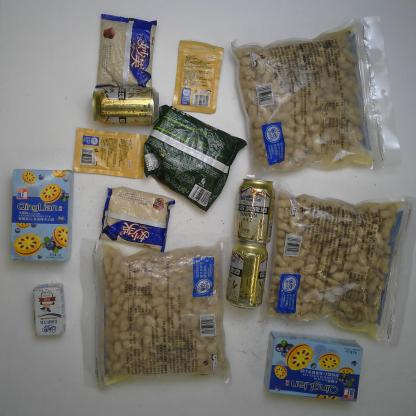Alcohol: (225, 239, 269, 311), (233, 177, 276, 246), (91, 86, 160, 127)
Dessert: (262, 330, 364, 403), (10, 168, 74, 263), (98, 185, 177, 255), (94, 13, 158, 89)
Dried Food: (229, 12, 403, 181), (258, 178, 416, 348), (78, 235, 235, 392)
Instant Noodles: (142, 103, 248, 212)
Milk: (32, 282, 66, 337)
Seasoner: (72, 126, 148, 180), (172, 39, 225, 115)
